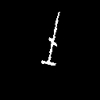double_crochet: (42, 12, 59, 64)
